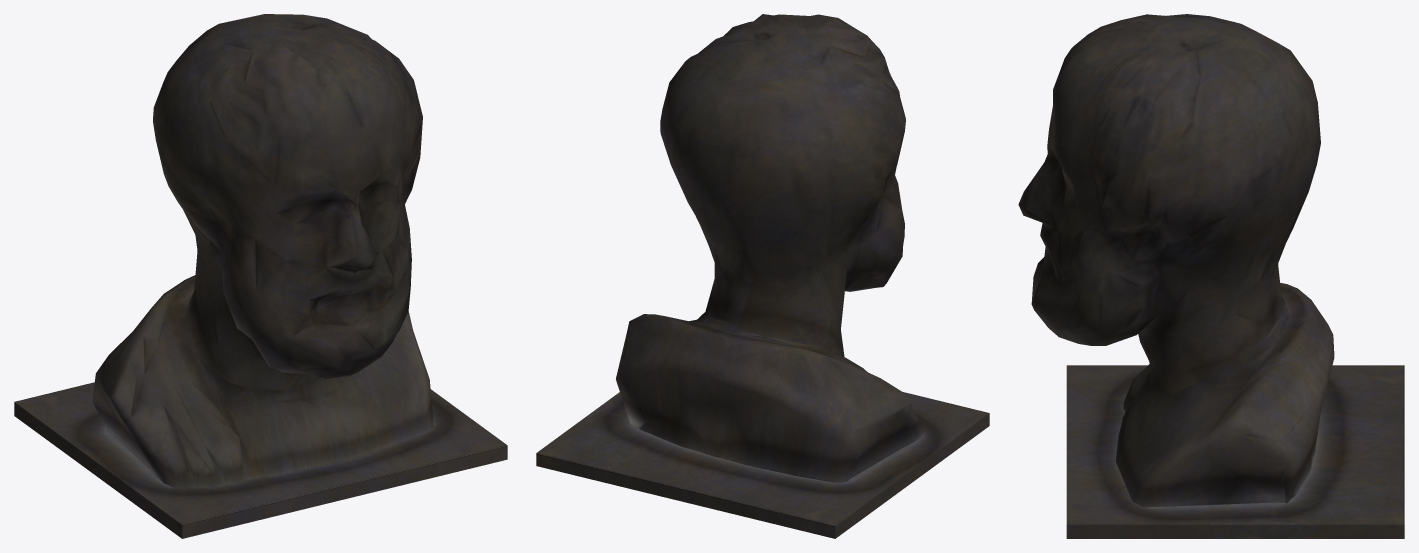
The model's file is Statue05.FBX.
The picture shows the model from 3 angles, left to right: view 1: azimuth 30°, elevation 25°; view 2: azimuth 150°, elevation 25°; view 3: azimuth 270°, elevation 25°; orthographic projection. The views are drawn at different scales.
Visible parts, largest first — view 1: Statue05; view 2: Statue05; view 3: Statue05.
Part boxes in pixels (x1,y1,x2,y2): Statue05: (14, 14, 507, 538); Statue05: (536, 14, 989, 538); Statue05: (1018, 14, 1404, 538).
Bounding box in the file's own units: 0.32 × 0.4019 × 0.3271.
